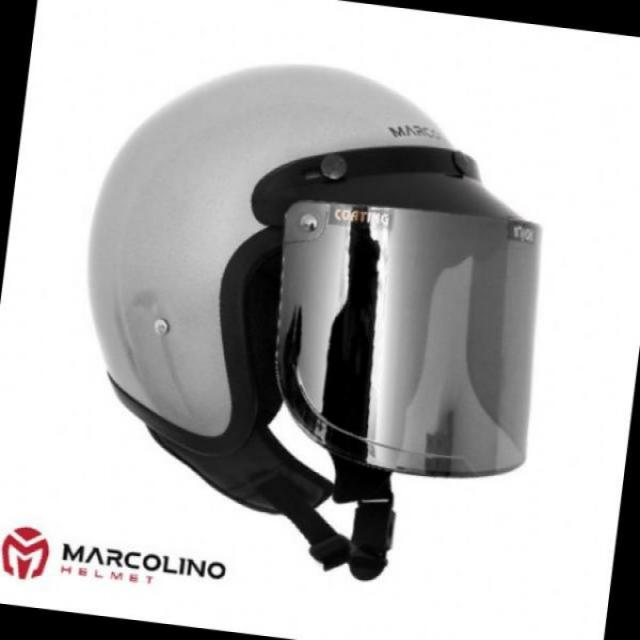Helmet: (86, 64, 539, 581)
